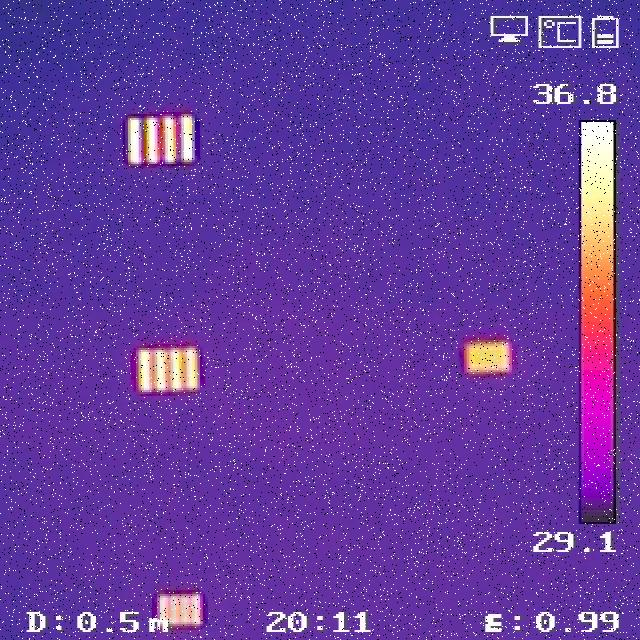Distinguishable 4-bar target: (124, 115, 196, 166), (137, 347, 203, 394)
Indistinguishable 4-bar target: (469, 343, 511, 374)
threshold 4-bar target: (162, 593, 202, 625)
